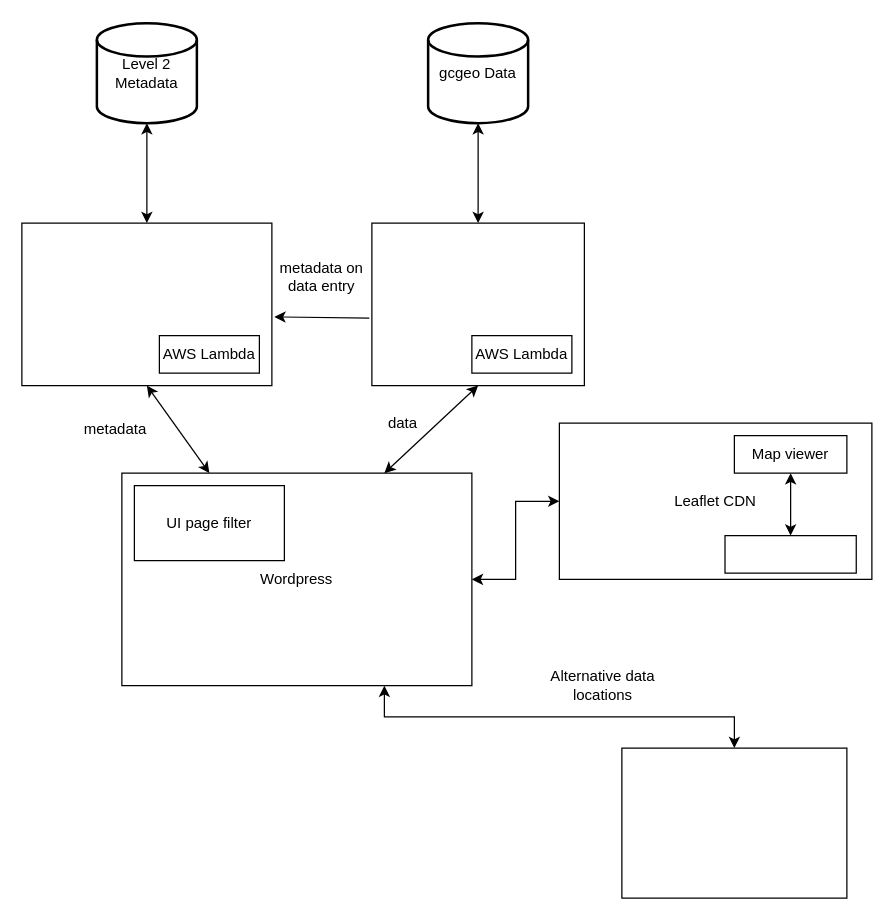
Image size: 894x920. Some labels were removed from this diagram. The shapes that lost their labels are listed below. From the top down, each one's box as (x1, y1, x2, y2) in pixels, then its label:
(21, 222, 272, 386): Metadata API
(371, 222, 584, 386): gcgeo Data API
(724, 534, 856, 573): Plugins
(621, 747, 847, 898): External Data Locations
